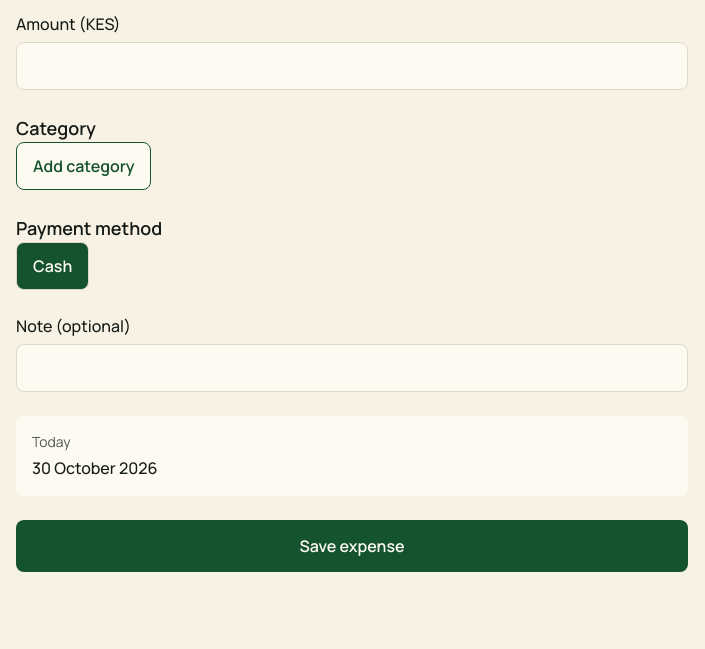
Test: NewExpenseForm › rejects an invalid amount without writing an expense
The image size is (705, 649).
Type "invalid" into the field labelled "Amount (KES)". click: (352, 66)
box: [16,42,688,90]
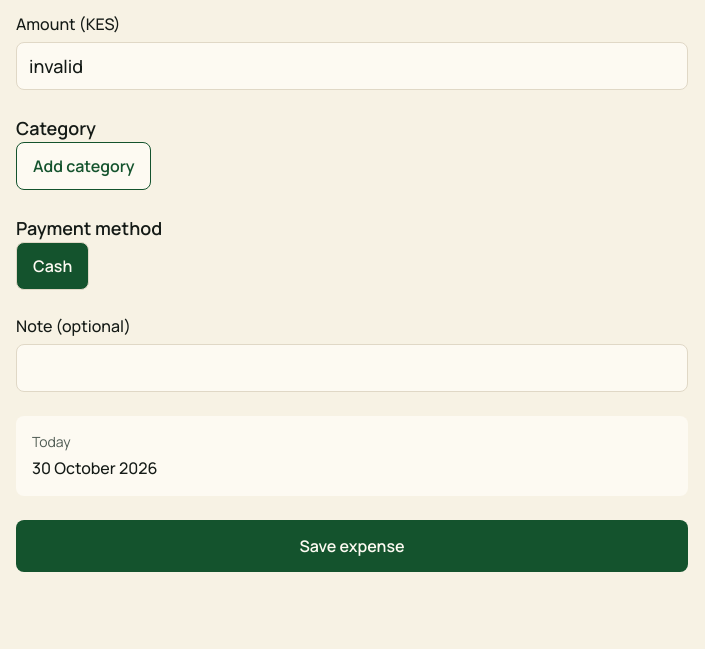
Click the button "Save expense". click: (352, 546)
box: [16,520,688,572]
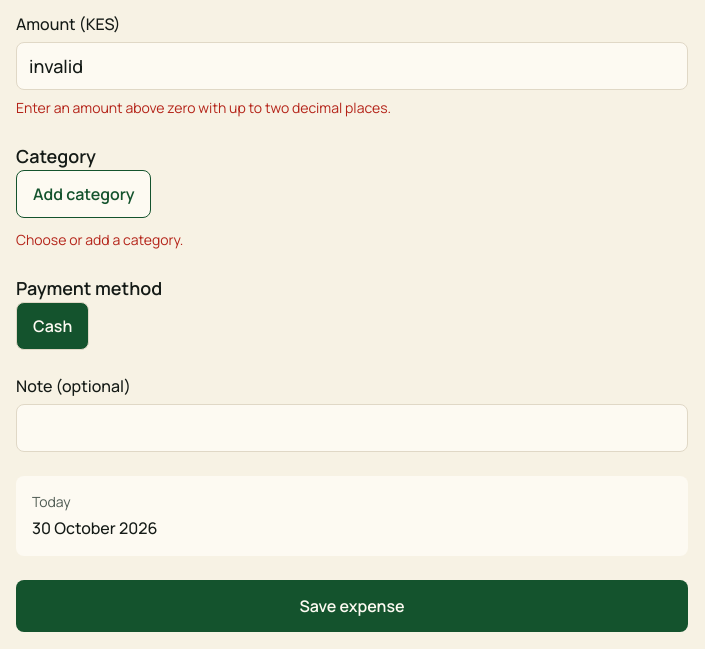
Now the text "Enter an amount above zero with up to two decimal places." is shown, box [16,98,391,117]
